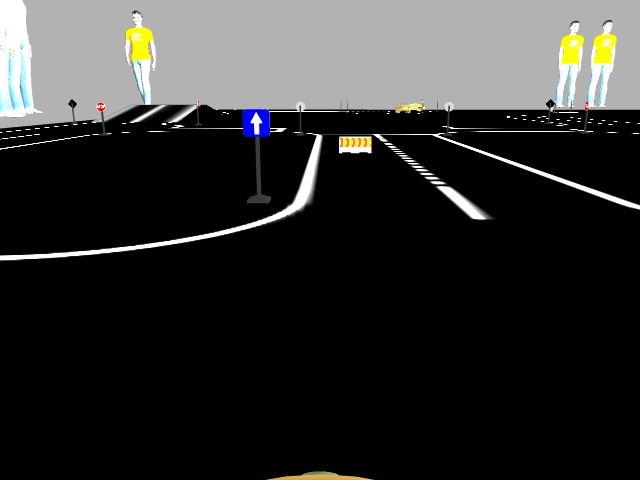ClosedRoadStand: (339, 137, 371, 153)
OneWay: (244, 110, 269, 135)
